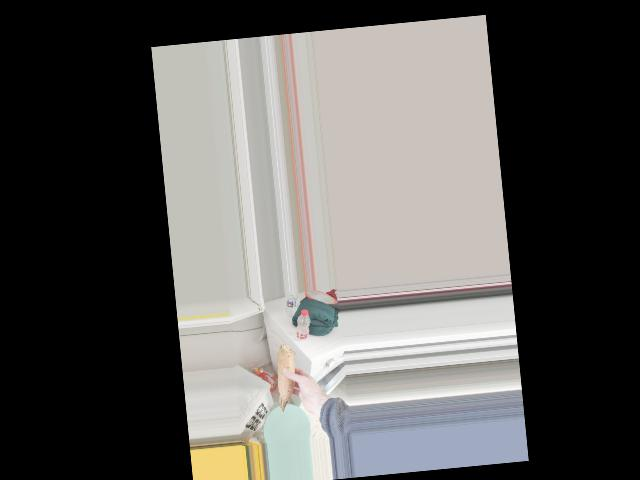sweet_potato: (275, 340, 296, 413)
